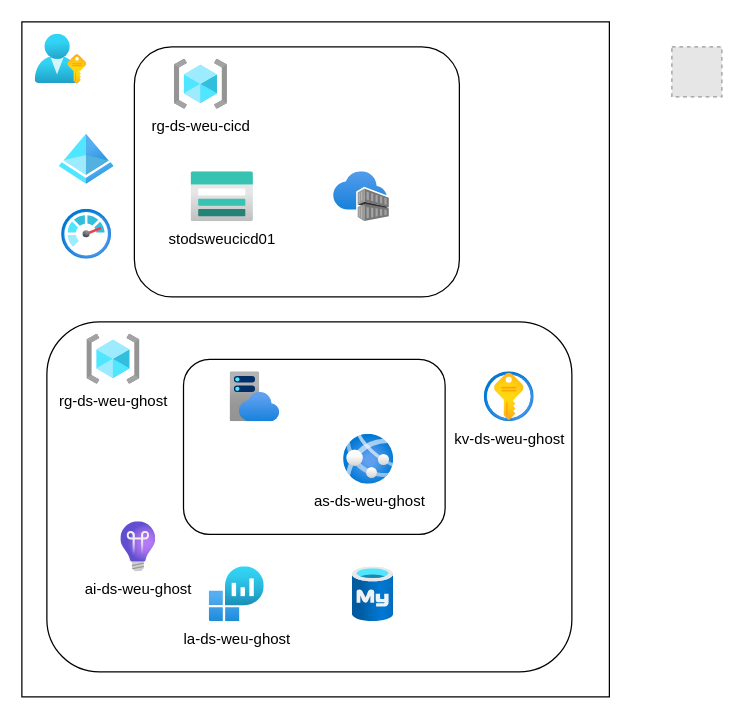
This 744x719 diagram has some shape labels left out. Grey dashed boxes stand in for pictures. Each missing label, with the box of its shape:
asp-ds-weu-ghost: (230, 371, 280, 421)
crdsweucicd01: (333, 171, 389, 221)
msql-ds-weu-ghost: (352, 566, 393, 621)
